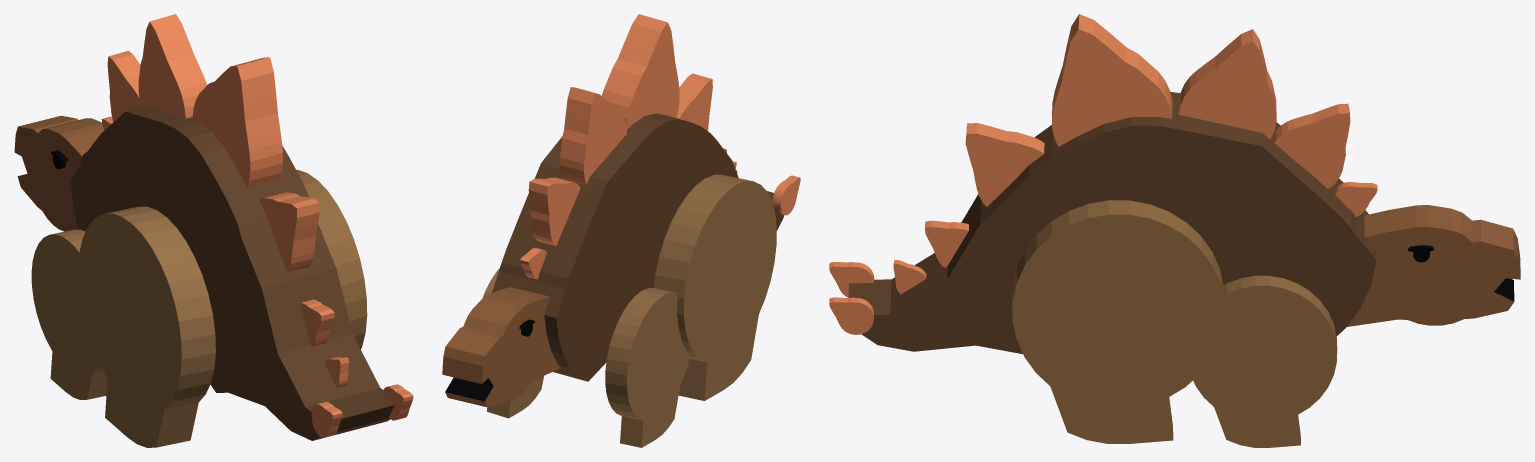
The model's file is Dinosaur.fbx.
The picture shows the model from 3 angles, left to right: view 1: azimuth 30°, elevation 25°; view 2: azimuth 150°, elevation 25°; view 3: azimuth 270°, elevation 25°; orthographic projection. The views are drawn at different scales.
Parts seen in each view (by area): view 1: Body, backleg.001, backleg.000; view 2: Body, backleg.001, backleg.000; view 3: Body, backleg.000.
Part boxes in pixels (bbox=[...]): Body: bbox=[14, 14, 413, 440]; backleg.001: bbox=[31, 206, 215, 447]; backleg.000: bbox=[296, 170, 367, 349]; Body: bbox=[442, 14, 800, 407]; backleg.001: bbox=[605, 174, 776, 447]; backleg.000: bbox=[482, 268, 543, 418]; Body: bbox=[829, 14, 1520, 354]; backleg.000: bbox=[1012, 200, 1337, 447].
Bounding box in the file's own units: 376 × 715 × 1147.
